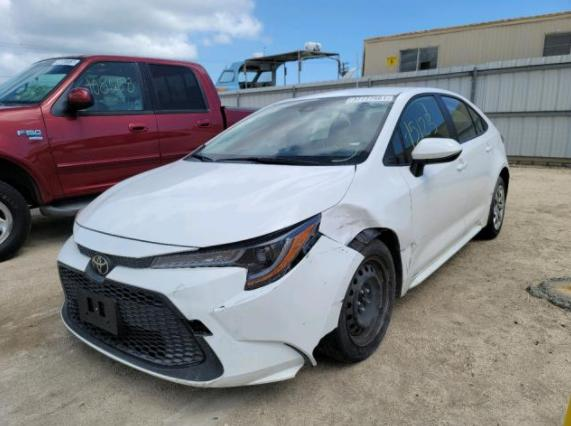Back-door: (437, 94, 498, 233)
Back-wheel: (482, 177, 505, 238)
Back-window: (442, 96, 477, 140), (468, 107, 485, 132)
Fender: (317, 161, 415, 288)
Front-bumper: (59, 223, 365, 388)
Front-door: (398, 93, 470, 279)
Front-wheel: (317, 240, 396, 362)
Front-window: (400, 96, 450, 162), (387, 131, 405, 164)
Grille: (60, 267, 203, 366)
Headlight: (151, 213, 321, 290)
Hood: (76, 159, 357, 248)
Mirror: (409, 137, 463, 176)
Quarter-panel: (486, 124, 510, 184)
Rocker-panel: (401, 215, 488, 297)
Roof: (277, 87, 455, 103)
Windshield: (182, 95, 397, 165)
